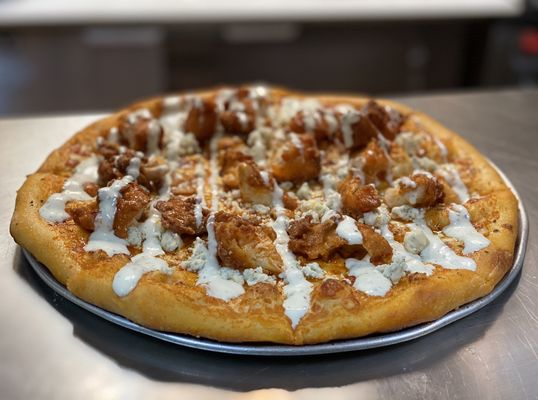curry: (29, 79, 537, 395)
sandwich: (4, 84, 521, 346)
